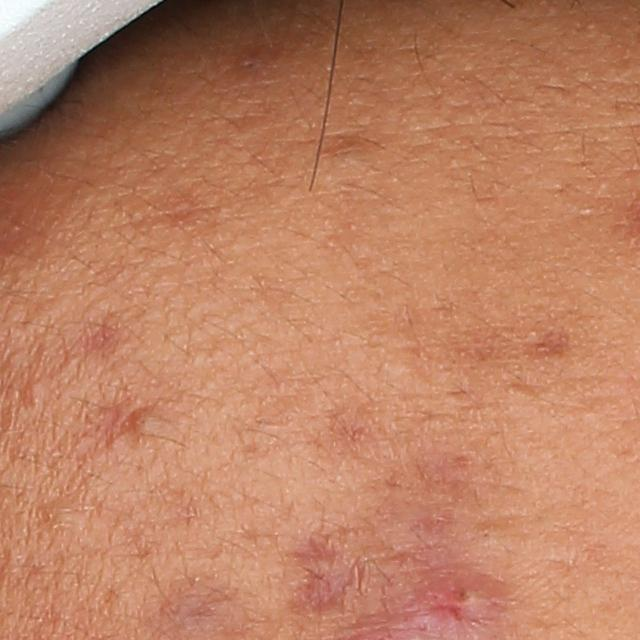atrophic_scar: (83, 308, 124, 358), (521, 327, 574, 362)
comedo: (21, 377, 49, 406)
